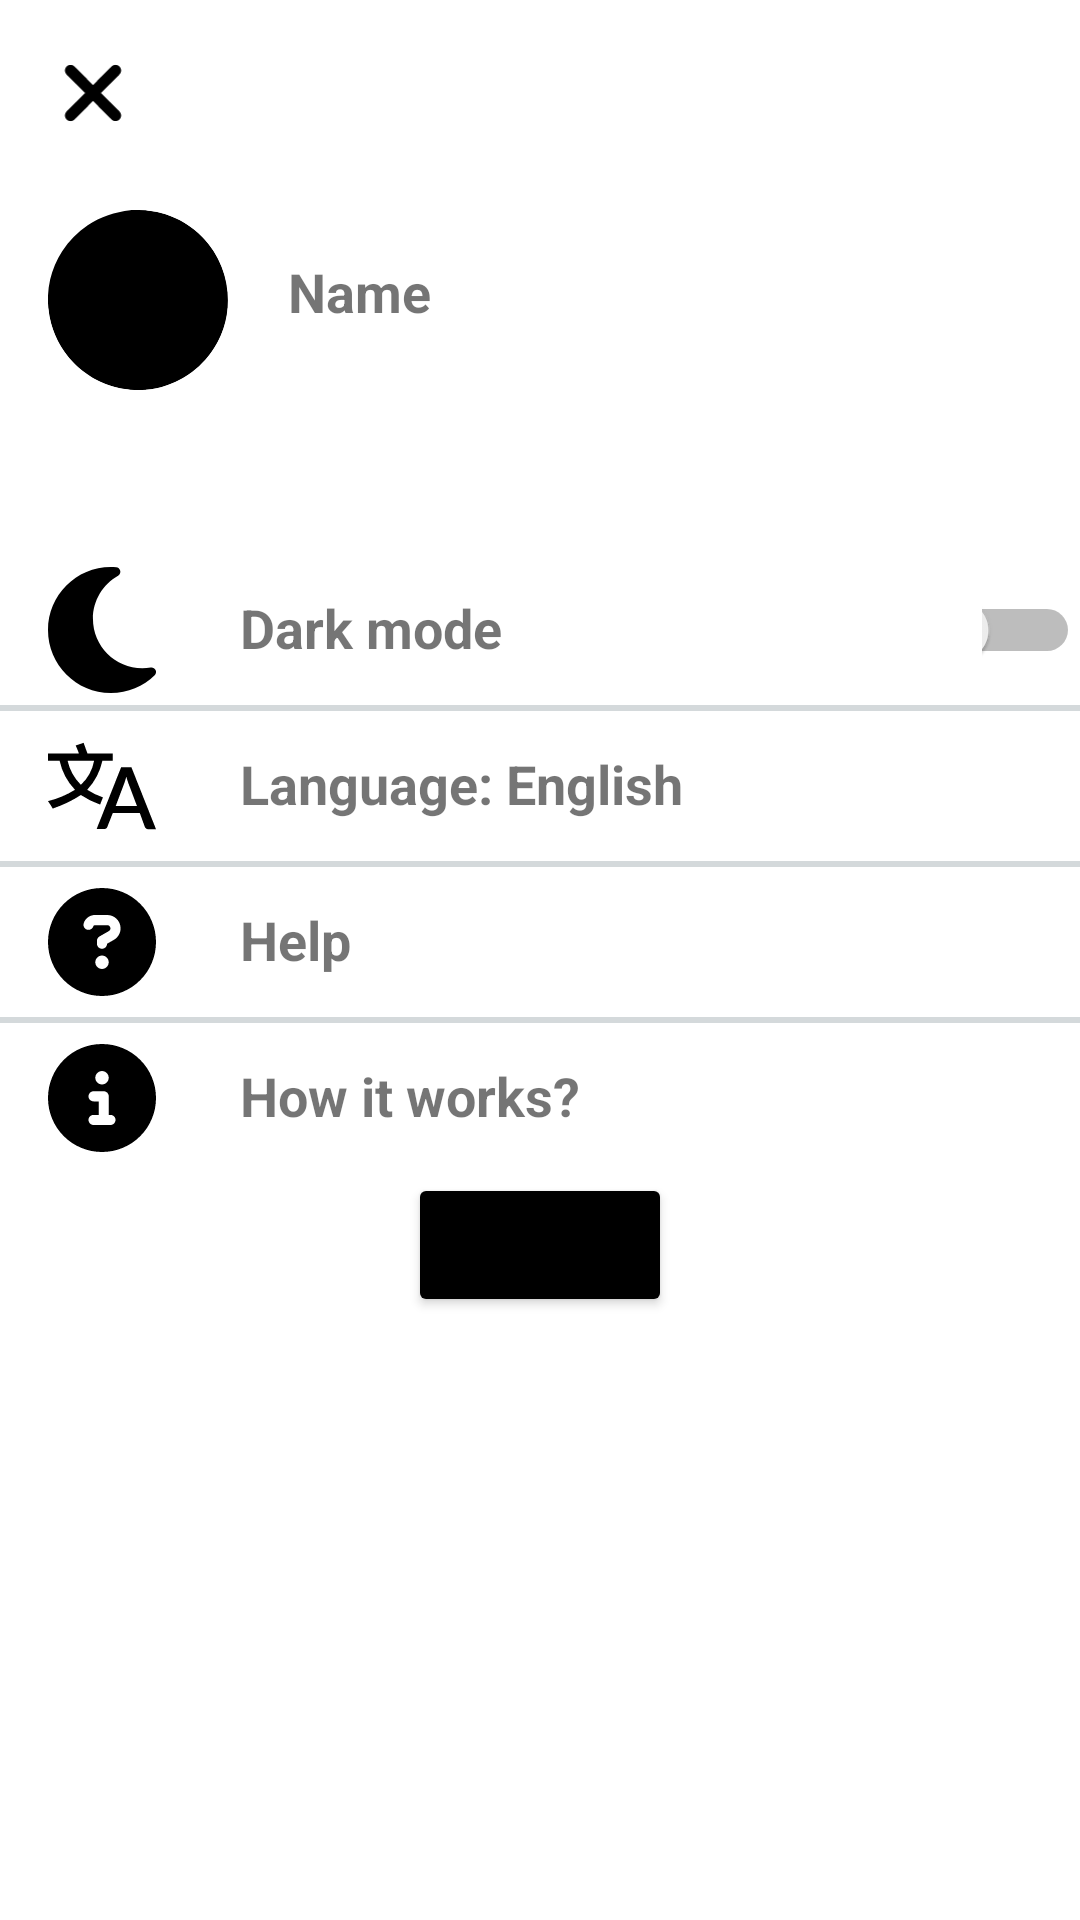

Where to tap for icons on this 1080x1920 app screen, as (x,y):
information: (102,1098)
moon: (102,630)
question mark: (102,942)
